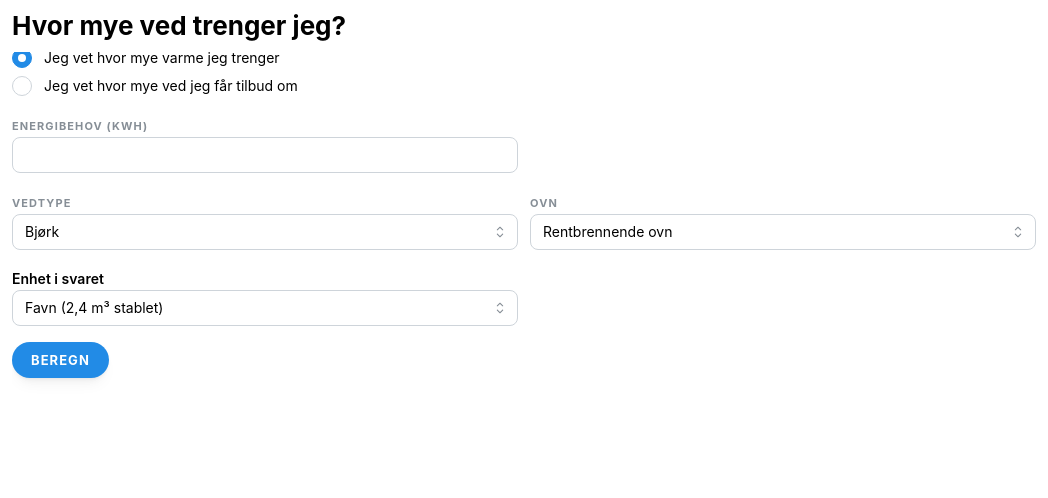
Test: NeedCalculator › turns an offered volume into the kWh it represents
Click the radio button labelled "Jeg vet hvor mye ved jeg får tilbud om".
click(22, 86)  # box [12,76,32,96]
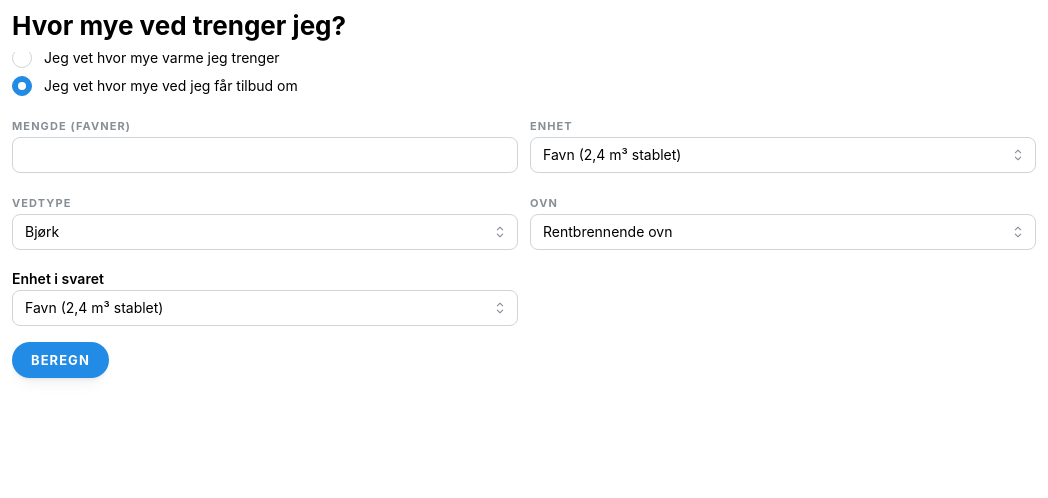
Type "3" into the number field labelled "Mengde (favner)".
click(265, 155); type("3")  # box [12,137,518,173]
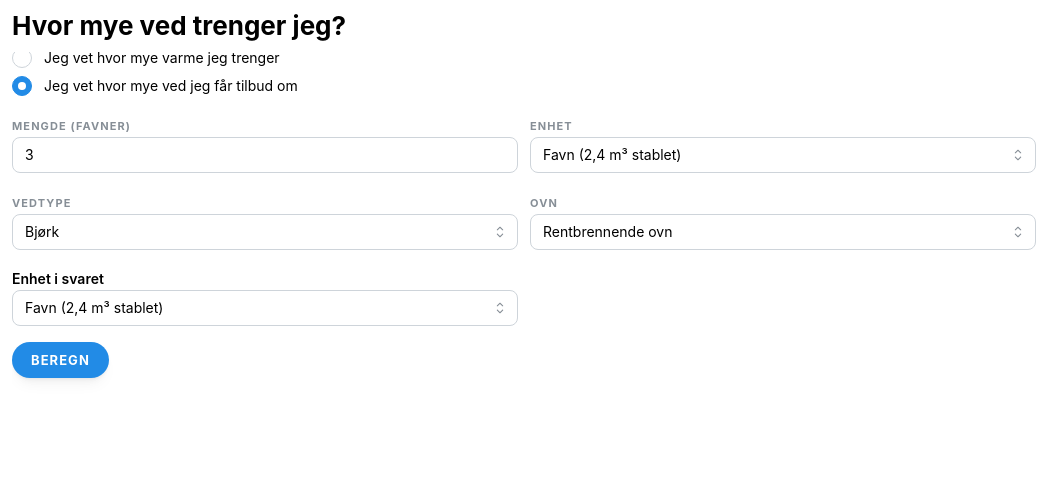
Click the button "Beregn".
click(60, 360)  # box [12,342,109,378]
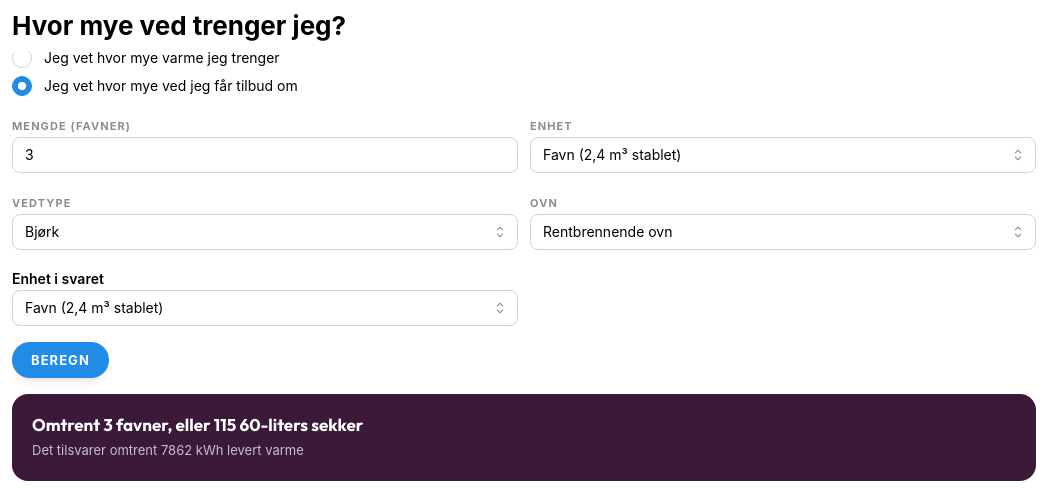
Check: the text "Det tilsvarer omtrent 7862 kWh levert varme" is shown, box [32,442,304,458]
Check: the text with test id "need-result" shows "sekk", box [32,414,363,435]
